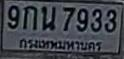3: (104, 8, 117, 33), (91, 8, 102, 32)
7: (62, 6, 75, 31)
9: (7, 4, 20, 29), (76, 7, 87, 31)
A01: (22, 5, 38, 31)
A25: (41, 5, 56, 31)
BKK: (16, 35, 106, 55)
